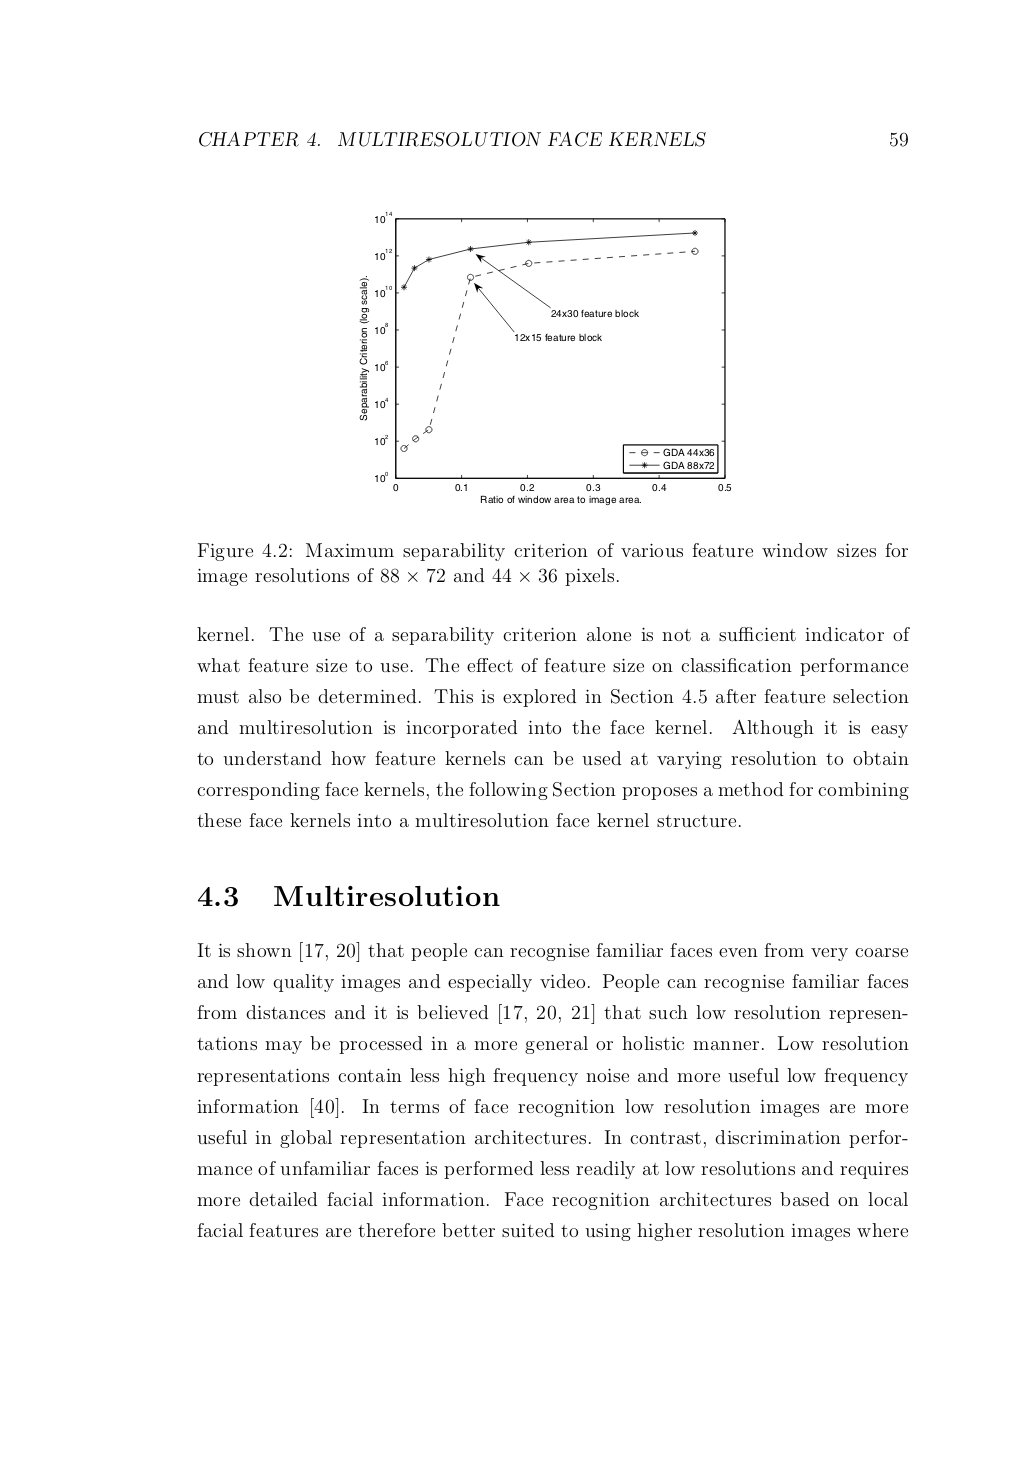figure: (359, 211, 731, 505)
